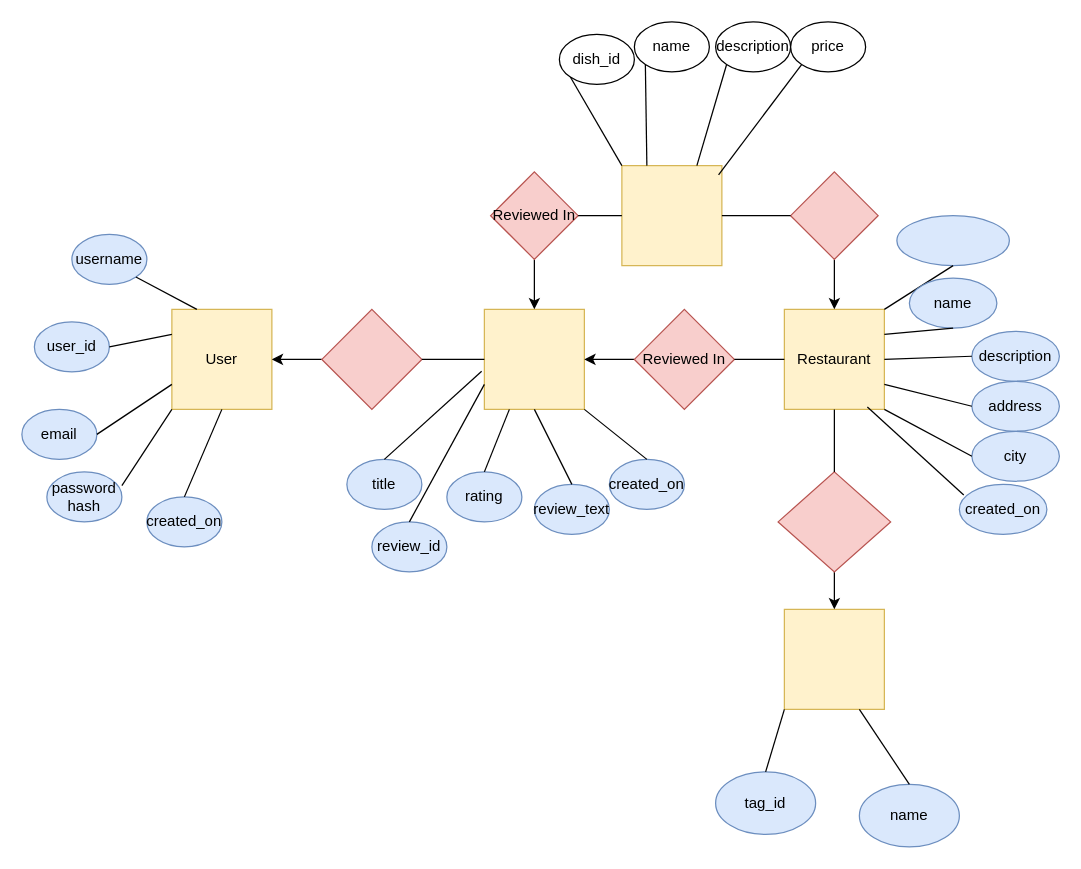
Image size: 1081x869. Some labels were removed from this diagram. Each missing label, with the centre of its shape:
Categorized In: point (834, 521)
Dish: point (671, 215)
Offers: point (833, 215)
restauraunt_id: point (952, 240)
Review: point (533, 358)
Tag: point (833, 658)
Writes: point (371, 358)
